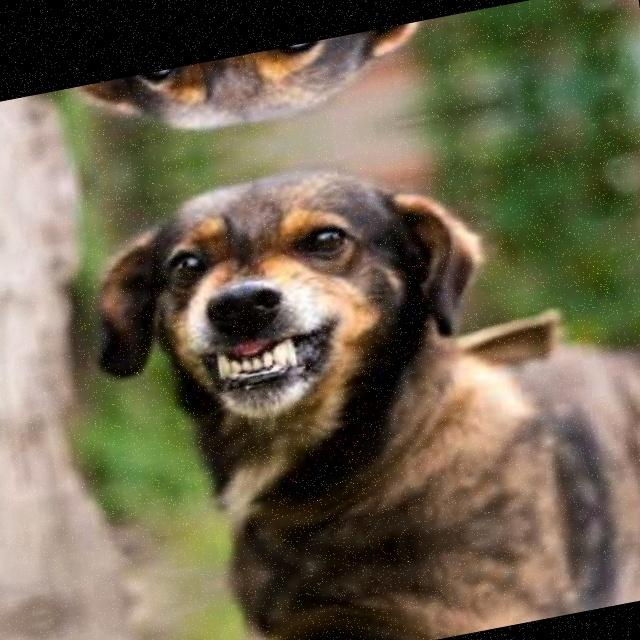dog: (56, 112, 529, 480), (41, 11, 486, 182)
